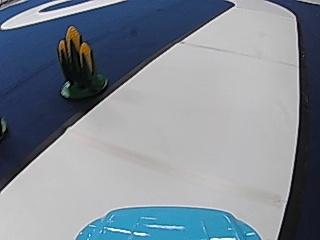corn: (55, 23, 107, 100)
